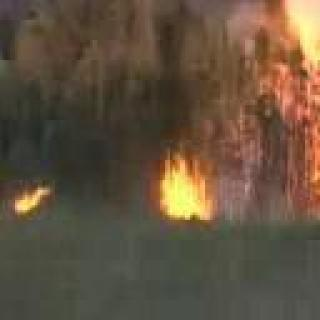fire: (268, 40, 320, 221), (160, 151, 222, 219), (15, 191, 46, 213)
